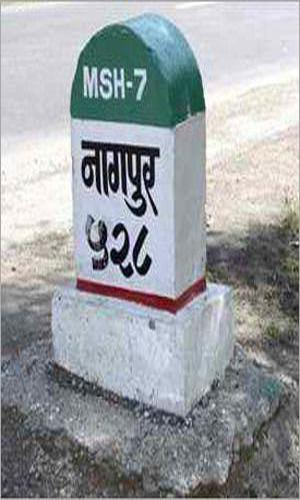kmstone: (69, 14, 212, 365)
